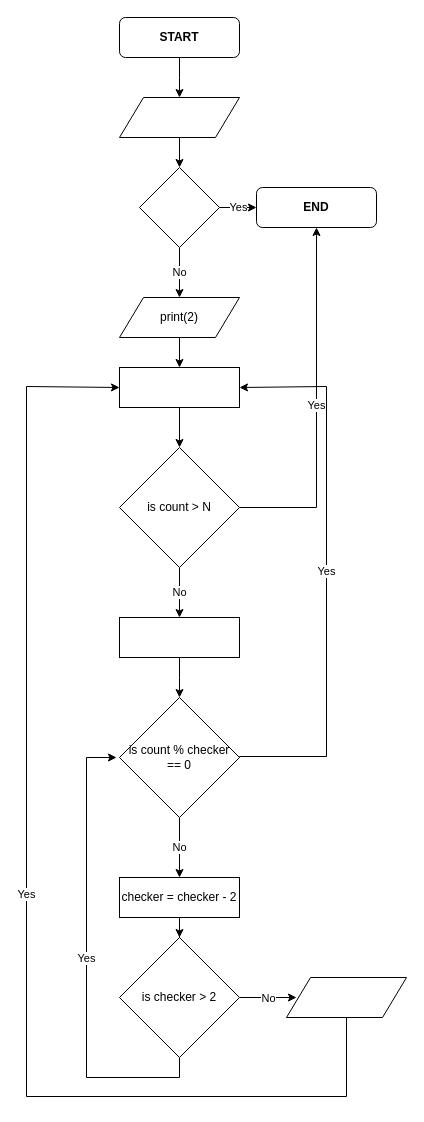
This 424x1122 diagram has some shape labels left out. The shapes that lost their labels are listed below. From the top down, each one's centre as x and y in pixels, then its label:
At [179,207]: "is N<2".
At [179,387]: "count = count + 2".
At [179,637]: "init checker = floor(sqrt(N))".
At [346,997]: "print(count)".
